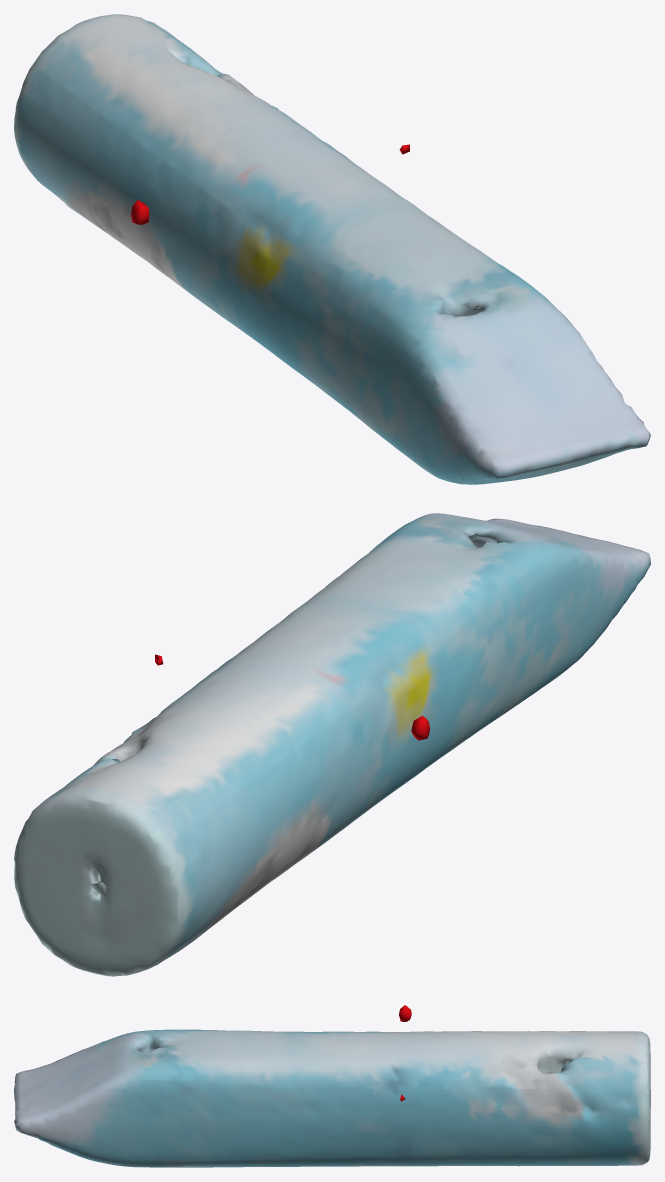
The model's file is oil.glb.
3 views of the same model, one above another, from view 1: azimuth 30°, elevation 25°; view 2: azimuth 150°, elevation 25°; view 3: azimuth 270°, elevation 25° (orthographic). The views are drawn at different scales.
Size of the model in its own units: 0.3289 by 0.2095 by 0.9994.
